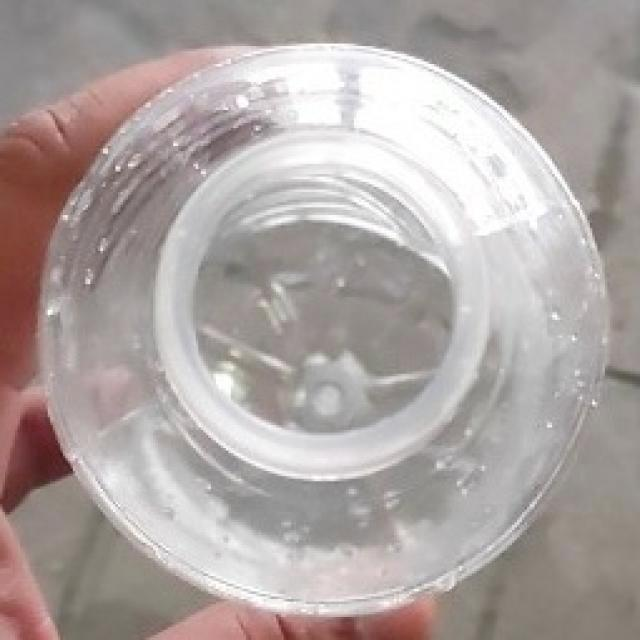bottle: (37, 44, 612, 618)
